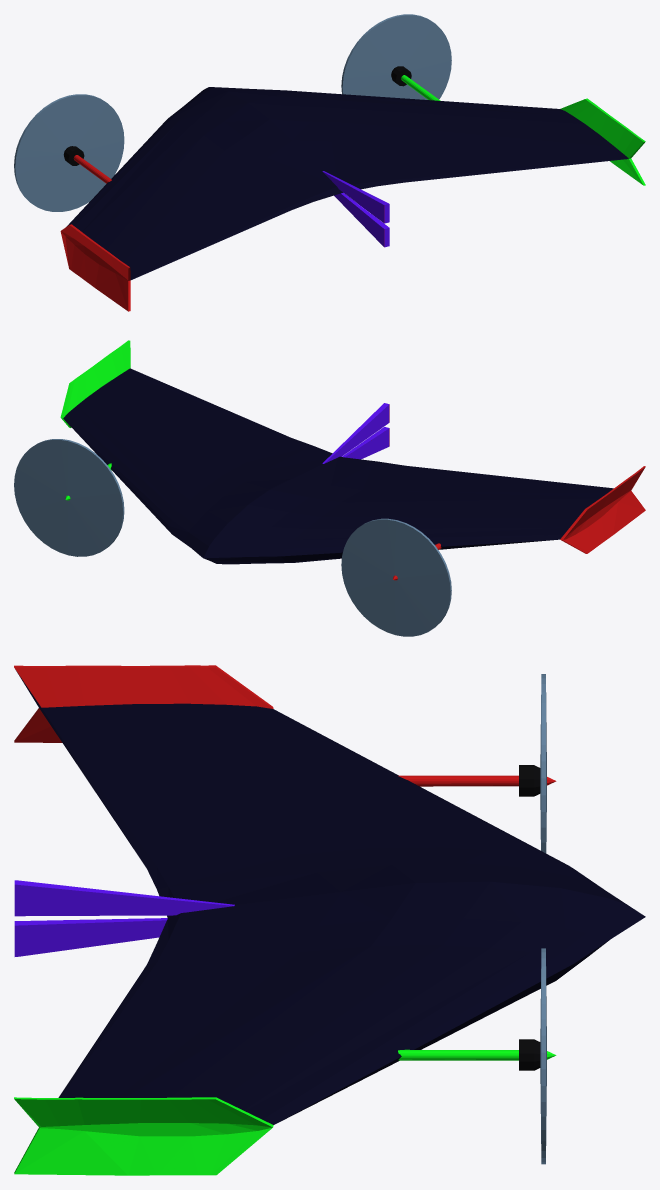
The model's file is tailsitter2.obj.
3 views of the same model, one above another, from view 1: azimuth 30°, elevation 25°; view 2: azimuth 150°, elevation 25°; view 3: azimuth 270°, elevation 25° (orthographic). The views are drawn at different scales.
Parts seen in each view (by area): view 1: vtol_refactor; view 2: vtol_refactor; view 3: vtol_refactor.
Boxes of the visible parts, x1,y1,x2,y2 form: vtol_refactor: (14,14,645,311); vtol_refactor: (14,340,645,636); vtol_refactor: (14,665,645,1175).
Size of the model in its own units: 1.05 by 0.2215 by 0.6474.
